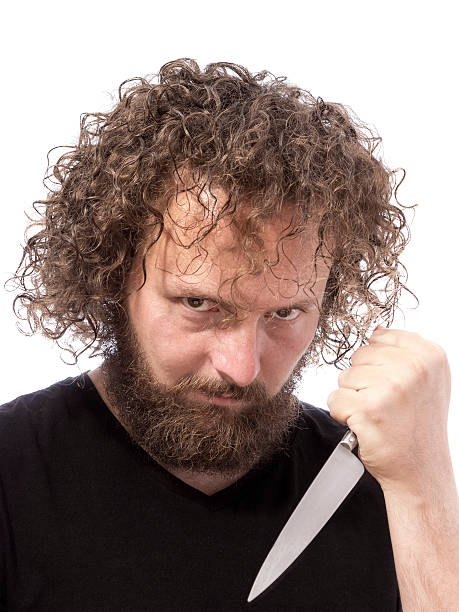knife: (244, 430, 368, 604)
